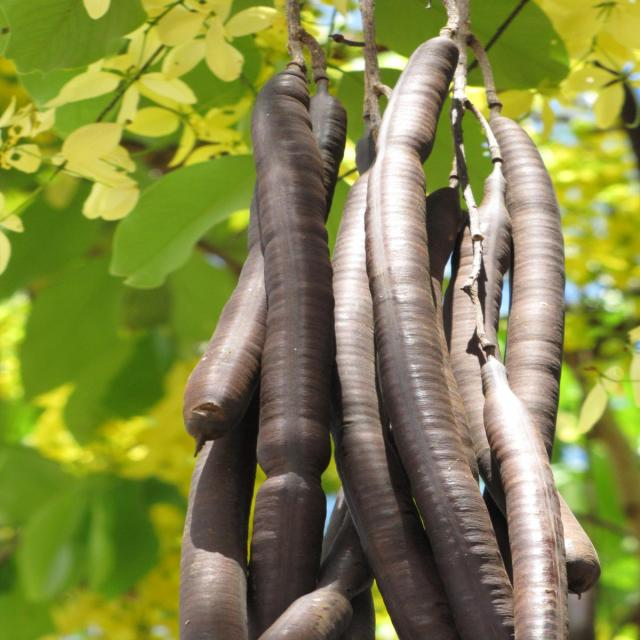Amaltas: (103, 27, 640, 640)
